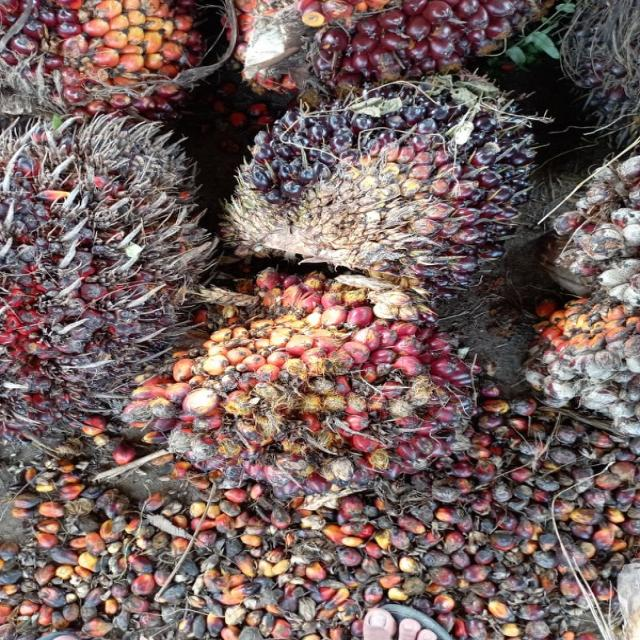fraksi 00: (239, 74, 550, 292)
fraksi 1: (154, 278, 481, 516)
fraksi 4: (2, 115, 216, 458)
